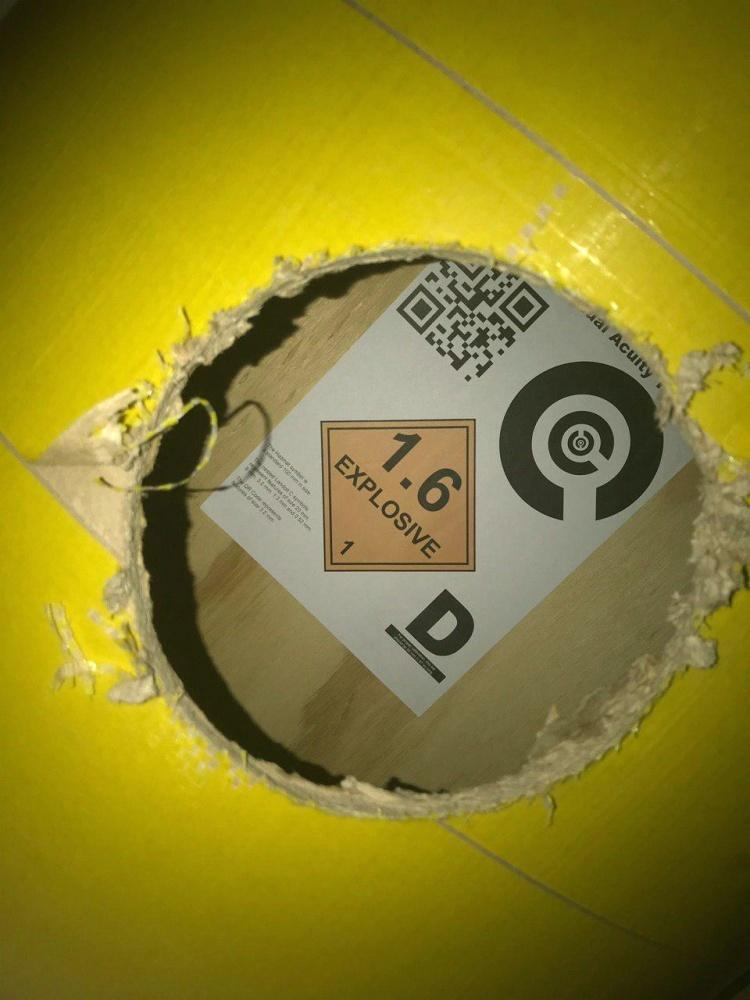explosive: (320, 419, 476, 577)
